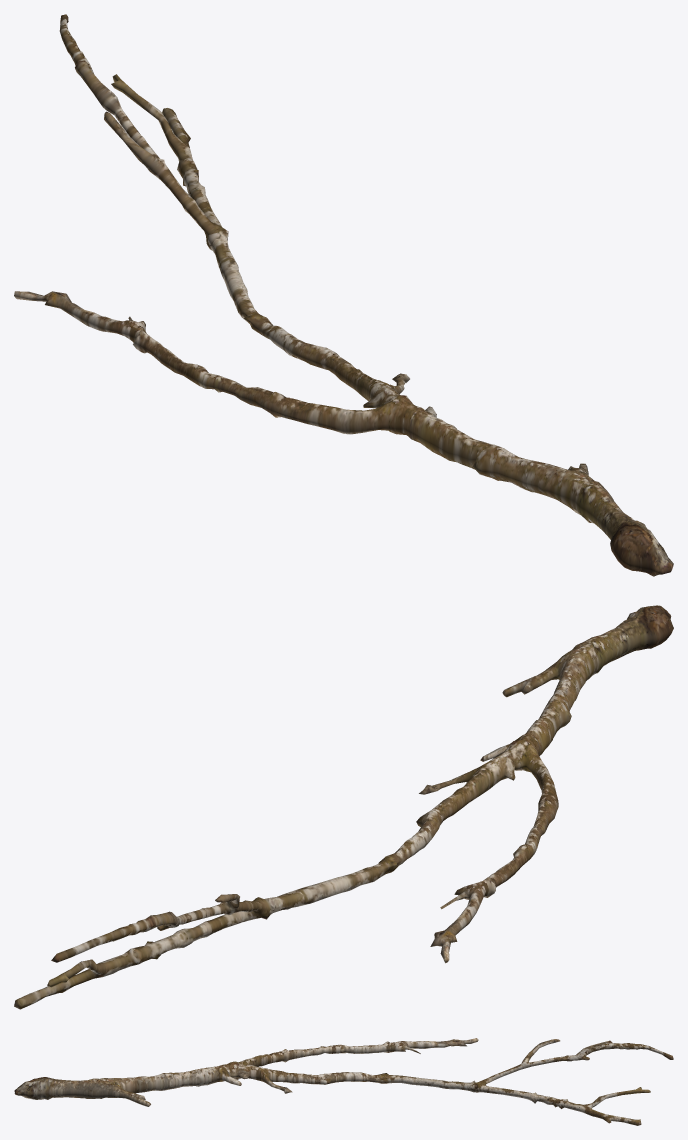
File: TreeBranch.FBX
3 renders of one model, top to bottom at view 1: azimuth 30°, elevation 25°; view 2: azimuth 150°, elevation 25°; view 3: azimuth 270°, elevation 25°, orthographic. The views are drawn at different scales.
Visible parts, largest first — view 1: bough; view 2: bough; view 3: bough.
Part boxes in pixels (x1=…): bough: x1=14, y1=14, x2=673, y2=576; bough: x1=14, y1=605, x2=673, y2=1009; bough: x1=14, y1=1038, x2=673, y2=1125.
Bounding box in the file's own units: 0.46 × 0.15 × 1.6.
Materials: 1 (1 with a texture image).
